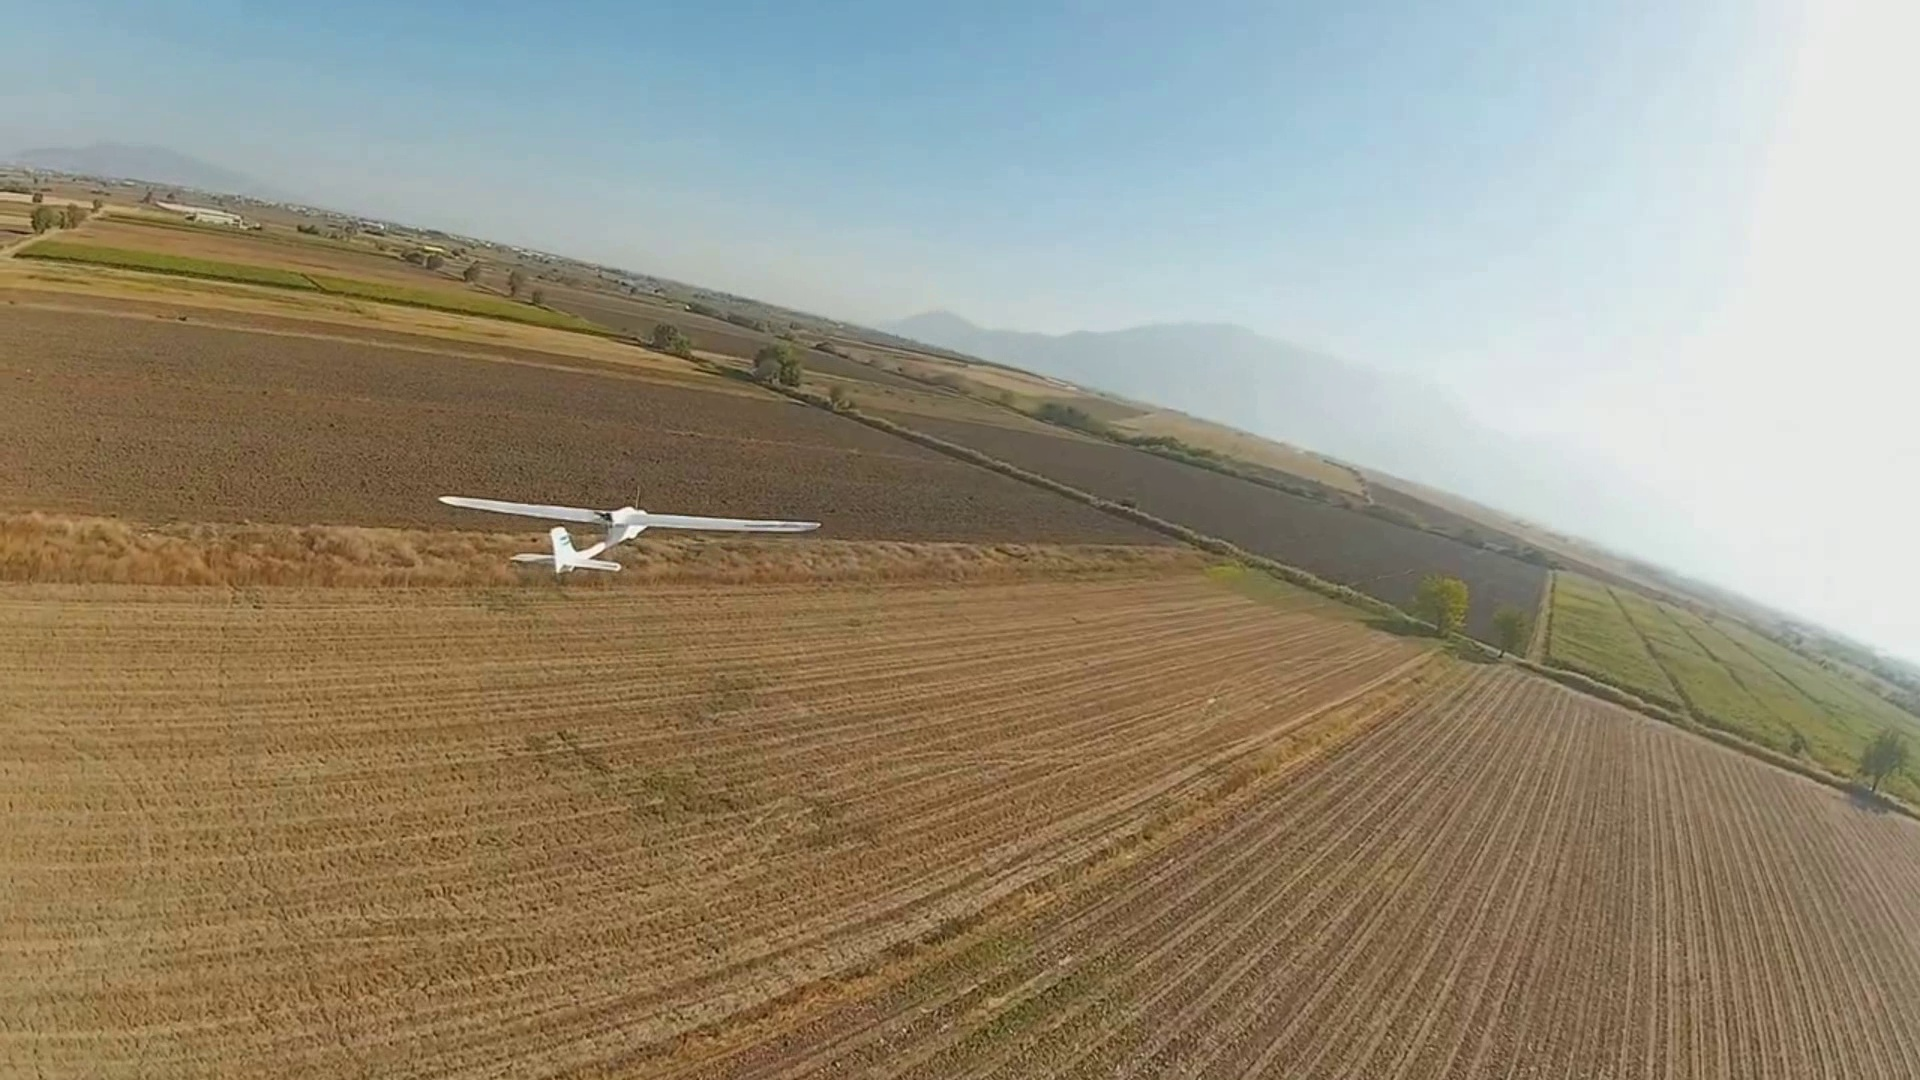airplane: (436, 486, 820, 580)
